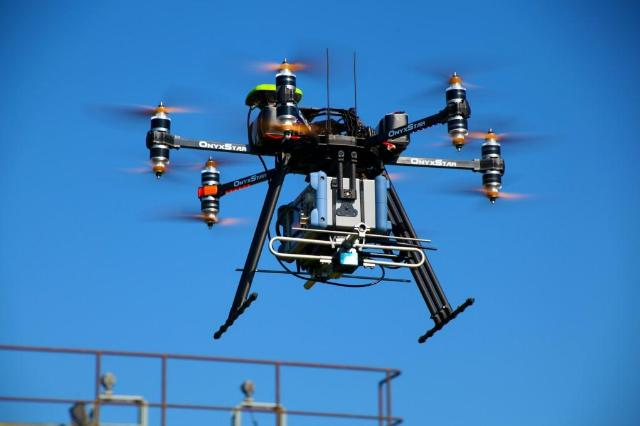drone: (127, 44, 526, 342)
